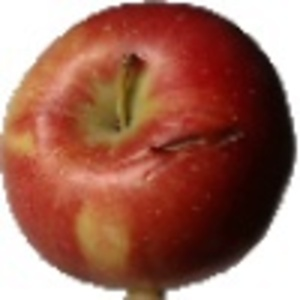maçã braeburn: (1, 1, 300, 290)
